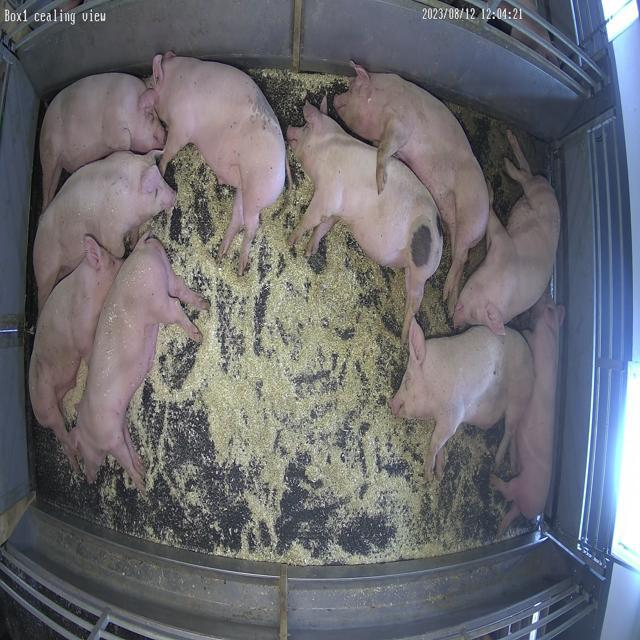Dirt: (449, 102, 548, 224)
Pig: (335, 62, 490, 314), (288, 103, 443, 340), (71, 236, 208, 492), (151, 51, 286, 274), (390, 320, 535, 480), (33, 150, 176, 308), (28, 236, 123, 470), (454, 131, 562, 334), (492, 295, 566, 528), (39, 73, 165, 208)
